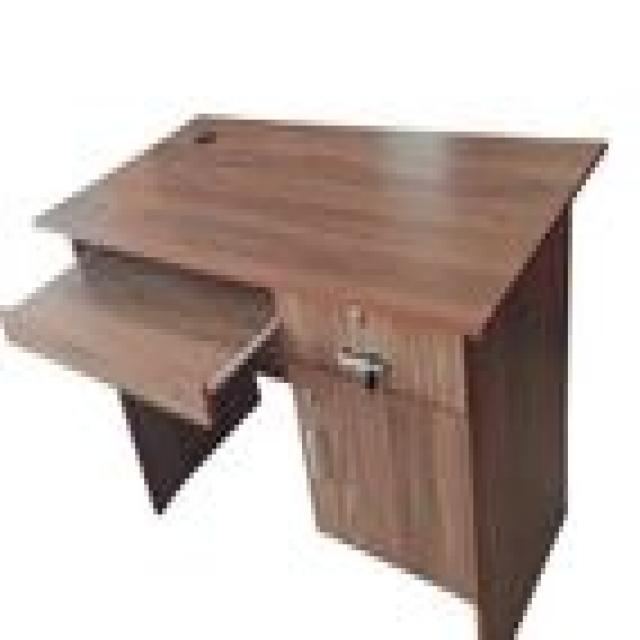others: (4, 66, 604, 640)
